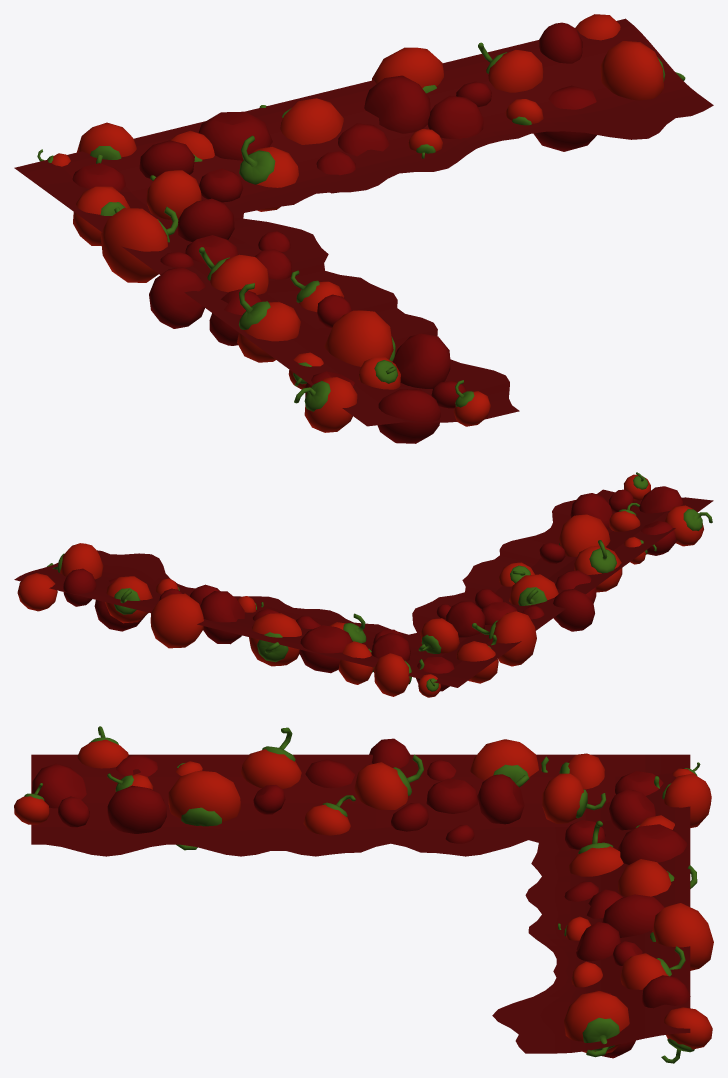
File: PepperTile_CornerSide01.fbx
3 renders of one model, top to bottom at view 1: azimuth 30°, elevation 25°; view 2: azimuth 150°, elevation 25°; view 3: azimuth 270°, elevation 25°, orthographic. The views are drawn at different scales.
Parts seen in each view (by area): view 1: Plane.001; view 2: Plane.001; view 3: Plane.001.
Part boxes in pixels (x1,y1,x2,y2): Plane.001: (14,14,713,443); Plane.001: (14,472,713,697); Plane.001: (14,726,713,1063).
Size of the model in its own units: 854 by 140 by 850.
2 materials, 2 textured.
